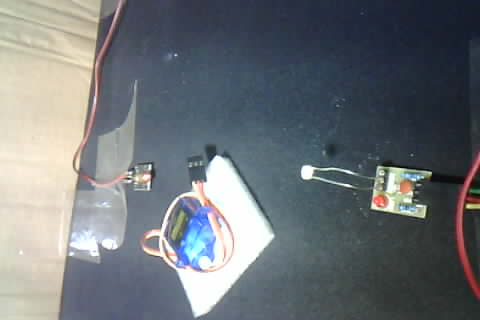motor: (143, 156, 245, 305)
